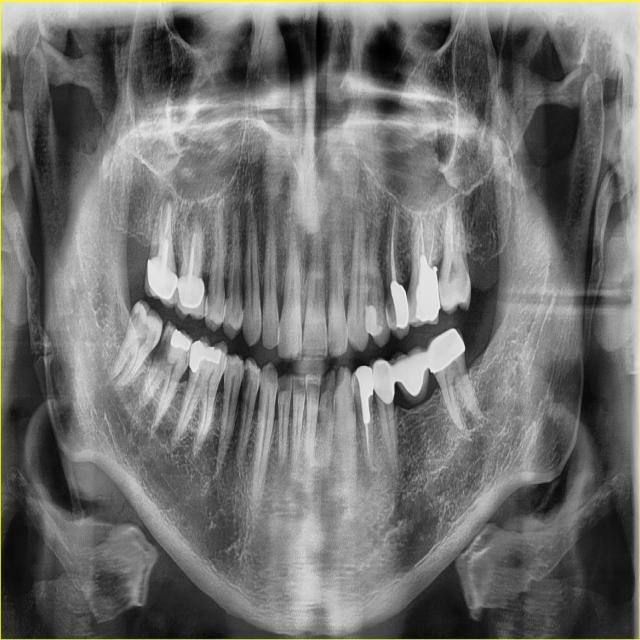71: (184, 243, 196, 300), (159, 236, 169, 282)
74: (156, 200, 171, 261), (362, 423, 377, 472), (177, 220, 189, 271), (390, 207, 397, 281), (428, 221, 437, 264), (419, 219, 425, 255), (417, 228, 421, 272), (191, 232, 196, 250)
NucleOSS Implant: (413, 253, 441, 324), (183, 339, 223, 381), (354, 362, 380, 424), (389, 279, 413, 329), (164, 326, 191, 355)
Sterngold Implant: (148, 321, 180, 372), (128, 304, 143, 333), (241, 361, 251, 400), (140, 319, 152, 336), (183, 343, 190, 369), (406, 285, 412, 302)
Straumann Implant: (358, 302, 384, 338)
Zimmer Implant: (133, 255, 189, 310), (389, 345, 436, 407), (418, 325, 473, 376), (366, 354, 398, 405), (174, 273, 208, 319)
